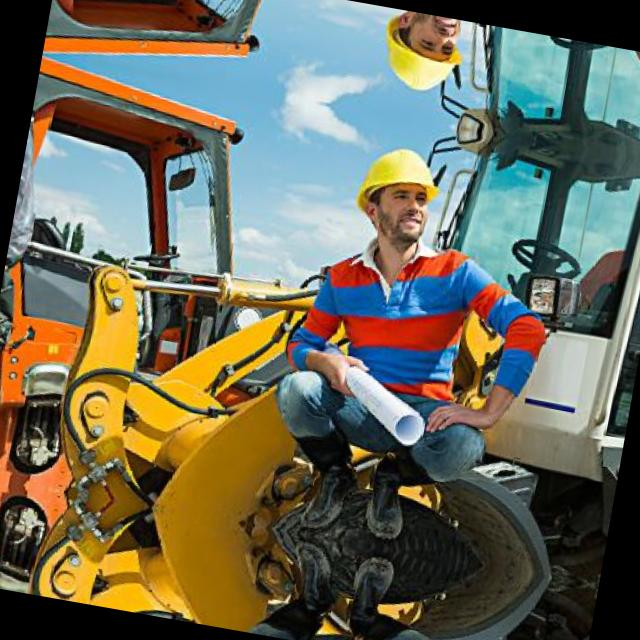helmet: (334, 132, 450, 254), (361, 5, 474, 104)
